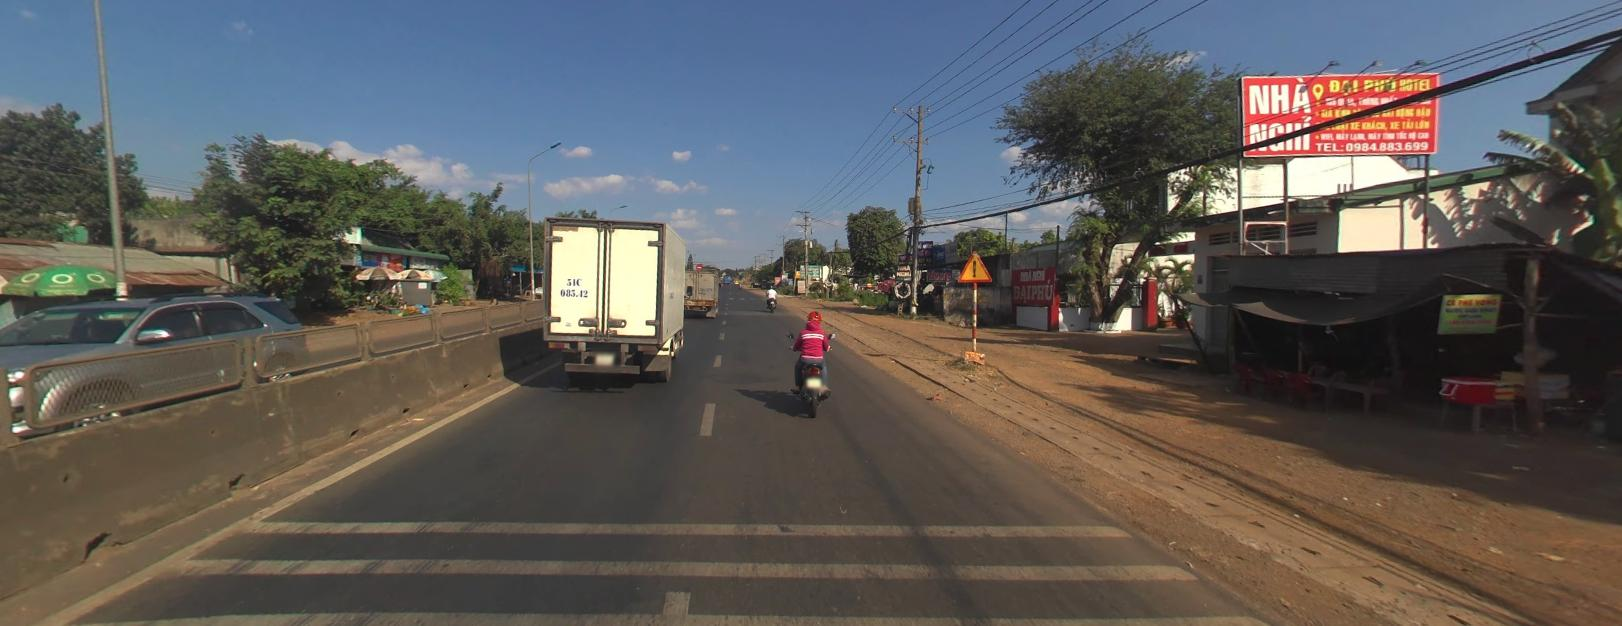Cam nguoc chieu: (695, 262, 701, 268)
Nguy hiem: (957, 250, 991, 281)
